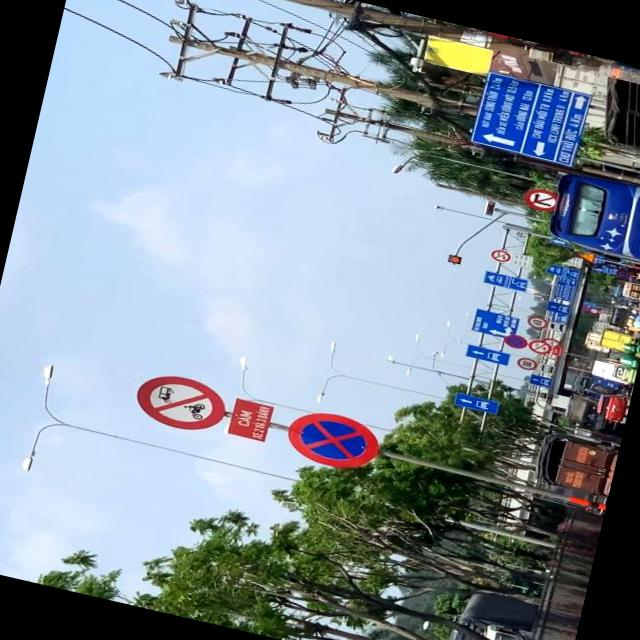P-104: (130, 367, 229, 435)
P-123b: (524, 184, 560, 213)
P-130: (282, 404, 381, 474)
